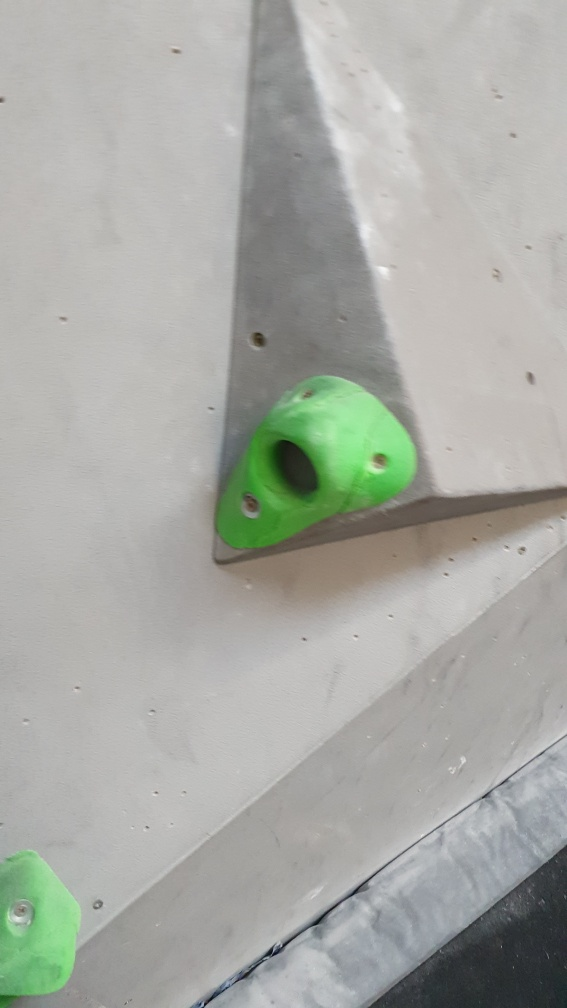Pocket: (208, 369, 424, 557)
